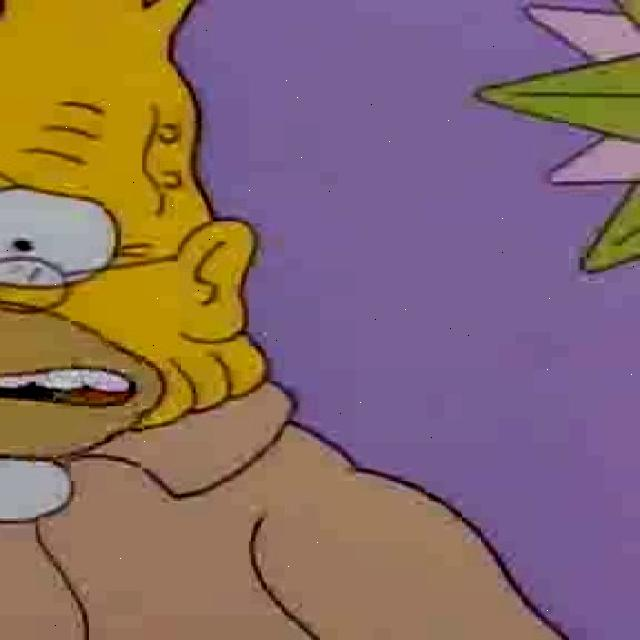Abraham Grampa Simpson: (1, 1, 275, 464)
